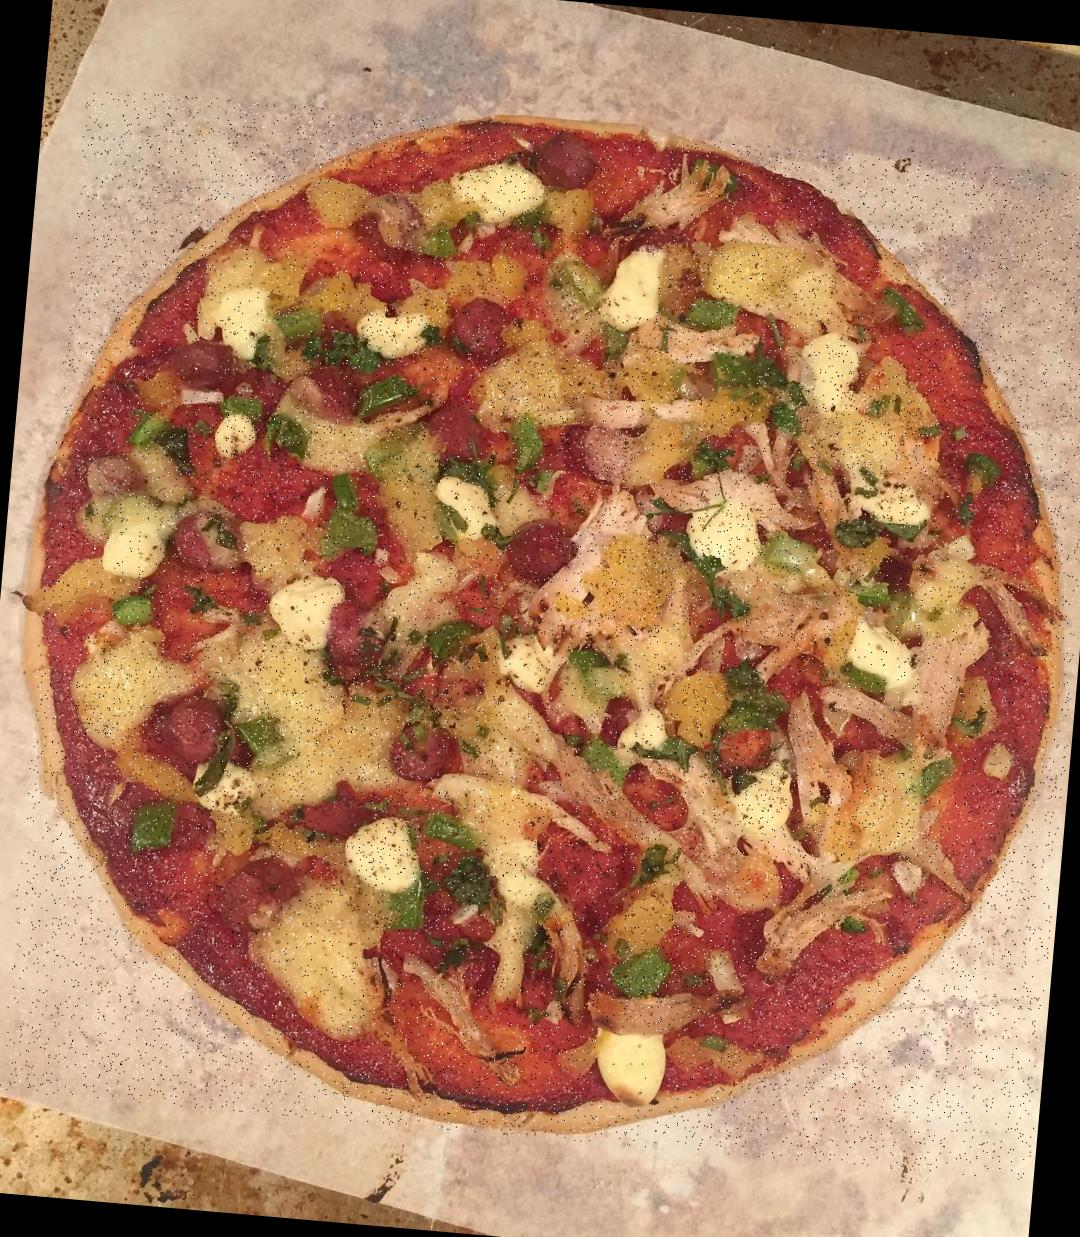Cheese: (235, 653, 391, 783), (263, 895, 398, 1045), (793, 363, 938, 479), (591, 538, 708, 676), (806, 753, 942, 864), (68, 634, 170, 744), (485, 351, 615, 426), (707, 246, 829, 319), (593, 1027, 672, 1110), (688, 499, 774, 572), (296, 421, 390, 474), (354, 814, 423, 884), (457, 161, 538, 219), (440, 476, 495, 543), (852, 618, 906, 683), (609, 251, 660, 318), (280, 579, 334, 641), (861, 472, 924, 525), (359, 306, 432, 349), (102, 525, 164, 574), (222, 289, 271, 349), (803, 345, 849, 407), (738, 769, 786, 828), (500, 634, 556, 682), (209, 409, 263, 458)
Ham: (224, 854, 301, 928), (329, 600, 393, 666), (301, 778, 371, 836), (577, 421, 641, 482), (175, 512, 245, 567), (165, 699, 225, 761), (512, 522, 570, 580), (174, 339, 235, 393), (425, 403, 489, 454), (541, 133, 598, 189), (455, 293, 502, 354), (393, 727, 452, 774)
Peppers: (356, 370, 432, 440), (701, 348, 790, 406), (439, 852, 507, 917), (722, 662, 786, 727), (612, 947, 679, 1003), (875, 285, 934, 338), (127, 802, 184, 854), (309, 338, 371, 377), (680, 156, 740, 192), (687, 297, 749, 331), (266, 412, 311, 460), (325, 470, 368, 518), (276, 309, 328, 346), (966, 451, 1007, 485), (636, 848, 669, 888)
Pizza: (0, 86, 1080, 1180)
